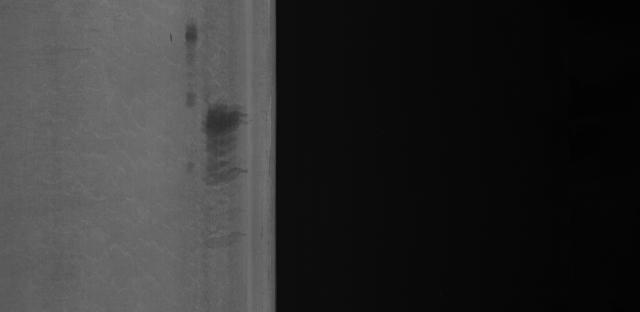oil_spot: (202, 99, 256, 243), (180, 21, 198, 108)
